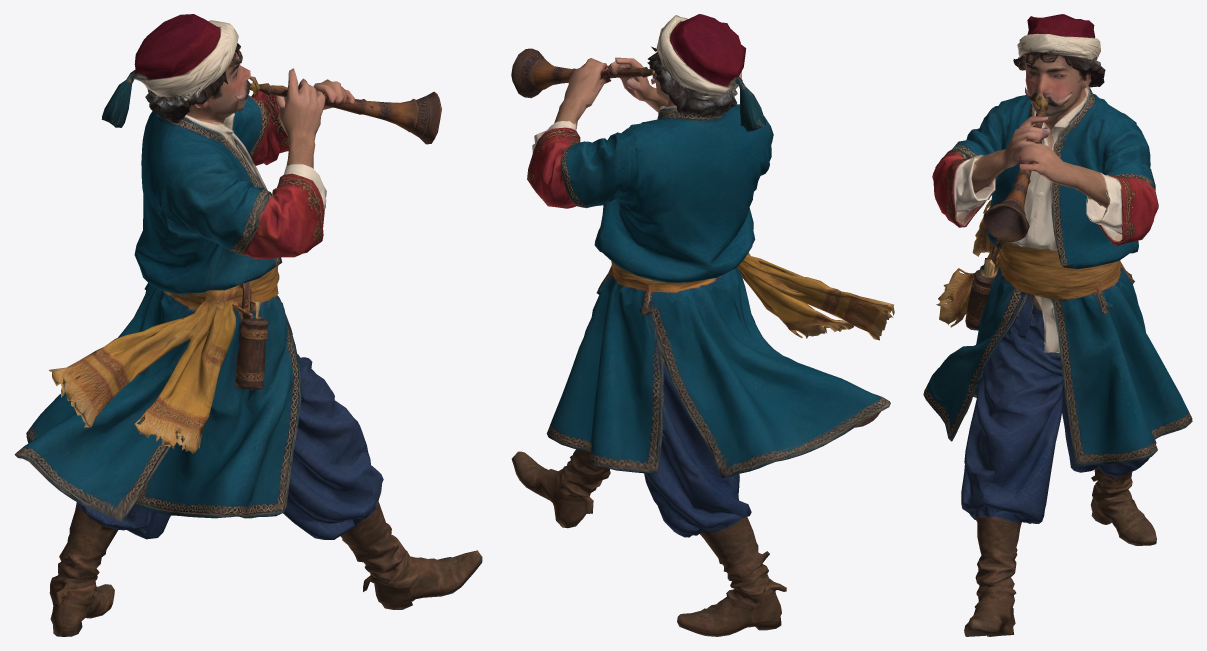
File: mehter-zurnacisi-yuruyus-1550-1600-tripo-v1.glb
3 views of the same model, side by side, from view 1: azimuth 30°, elevation 25°; view 2: azimuth 150°, elevation 25°; view 3: azimuth 270°, elevation 25° (orthographic). The views are drawn at different scales.
Parts seen in each view (by area): view 1: tripo_node_3b99d4ff-8beb-4952-9e5c-97ba1abb70a6; view 2: tripo_node_3b99d4ff-8beb-4952-9e5c-97ba1abb70a6; view 3: tripo_node_3b99d4ff-8beb-4952-9e5c-97ba1abb70a6.
Boxes of the visible parts, x1=… form: tripo_node_3b99d4ff-8beb-4952-9e5c-97ba1abb70a6: x1=14, y1=14, x2=482, y2=636; tripo_node_3b99d4ff-8beb-4952-9e5c-97ba1abb70a6: x1=511, y1=14, x2=894, y2=636; tripo_node_3b99d4ff-8beb-4952-9e5c-97ba1abb70a6: x1=923, y1=14, x2=1192, y2=636.
Size of the model in its own units: 0.7467 by 1 by 0.4438.
1 material, 1 textured.
